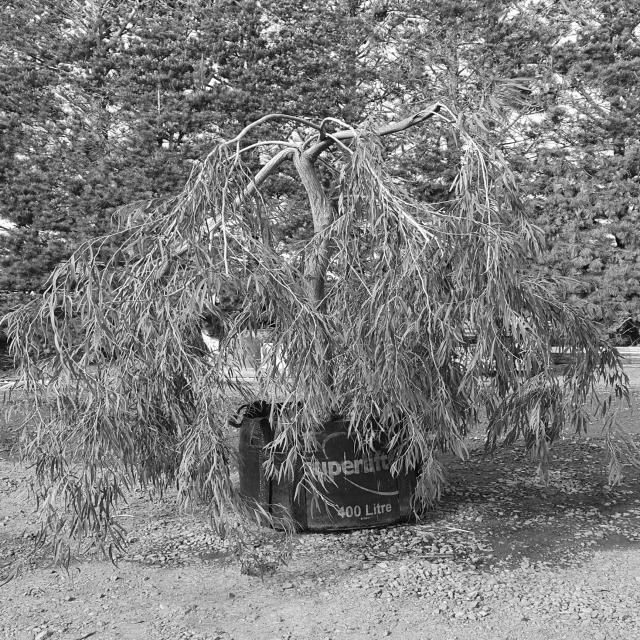Agonis flexuos: (18, 113, 618, 550)
